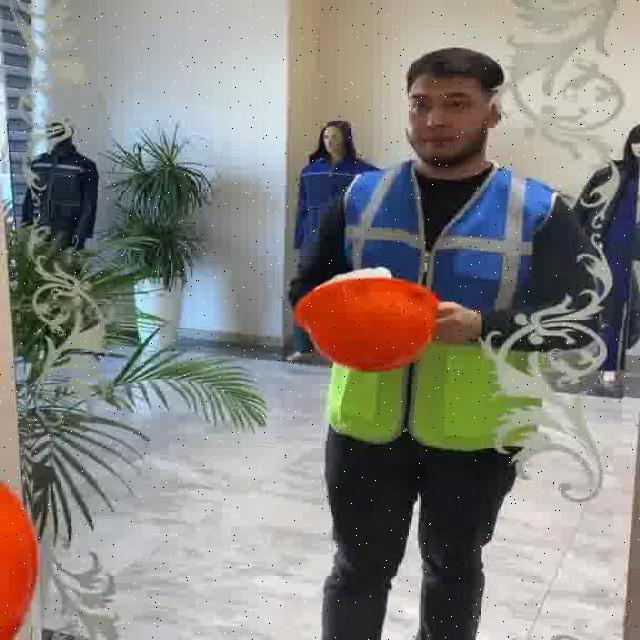Hard_hat: (298, 272, 440, 373)
Person: (281, 19, 556, 640)
Vest: (304, 153, 525, 460)
